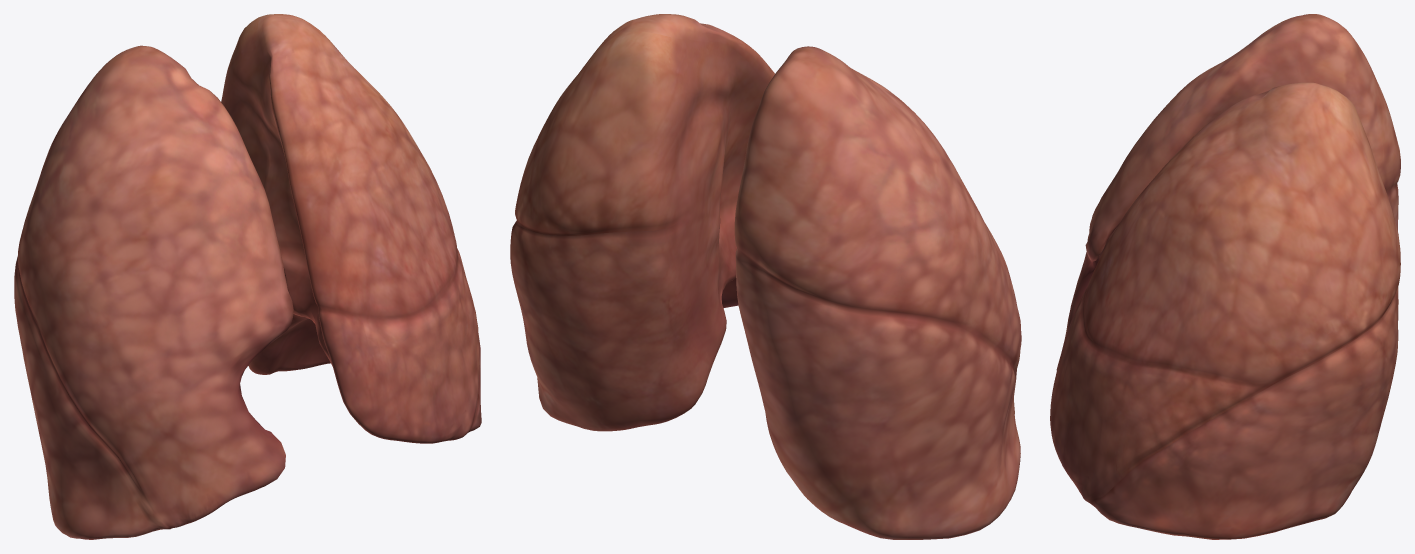
Rendered from pulmones.fbx.
3 views of the same model, side by side, from view 1: azimuth 30°, elevation 25°; view 2: azimuth 150°, elevation 25°; view 3: azimuth 270°, elevation 25° (orthographic). The views are drawn at different scales.
Parts seen in each view (by area): view 1: Pulmon Derecho, Pulmon Izquierdo; view 2: Pulmon Derecho, Pulmon Izquierdo; view 3: Pulmon Izquierdo, Pulmon Derecho.
Boxes of the visible parts, x1,y1,x2,y2 form: Pulmon Derecho: (14,45,293,539); Pulmon Izquierdo: (221,14,481,443); Pulmon Derecho: (734,46,1021,539); Pulmon Izquierdo: (510,14,774,431); Pulmon Izquierdo: (1050,82,1400,539); Pulmon Derecho: (1056,14,1400,370).
Bounding box in the file's own units: 267 × 268 × 193.
